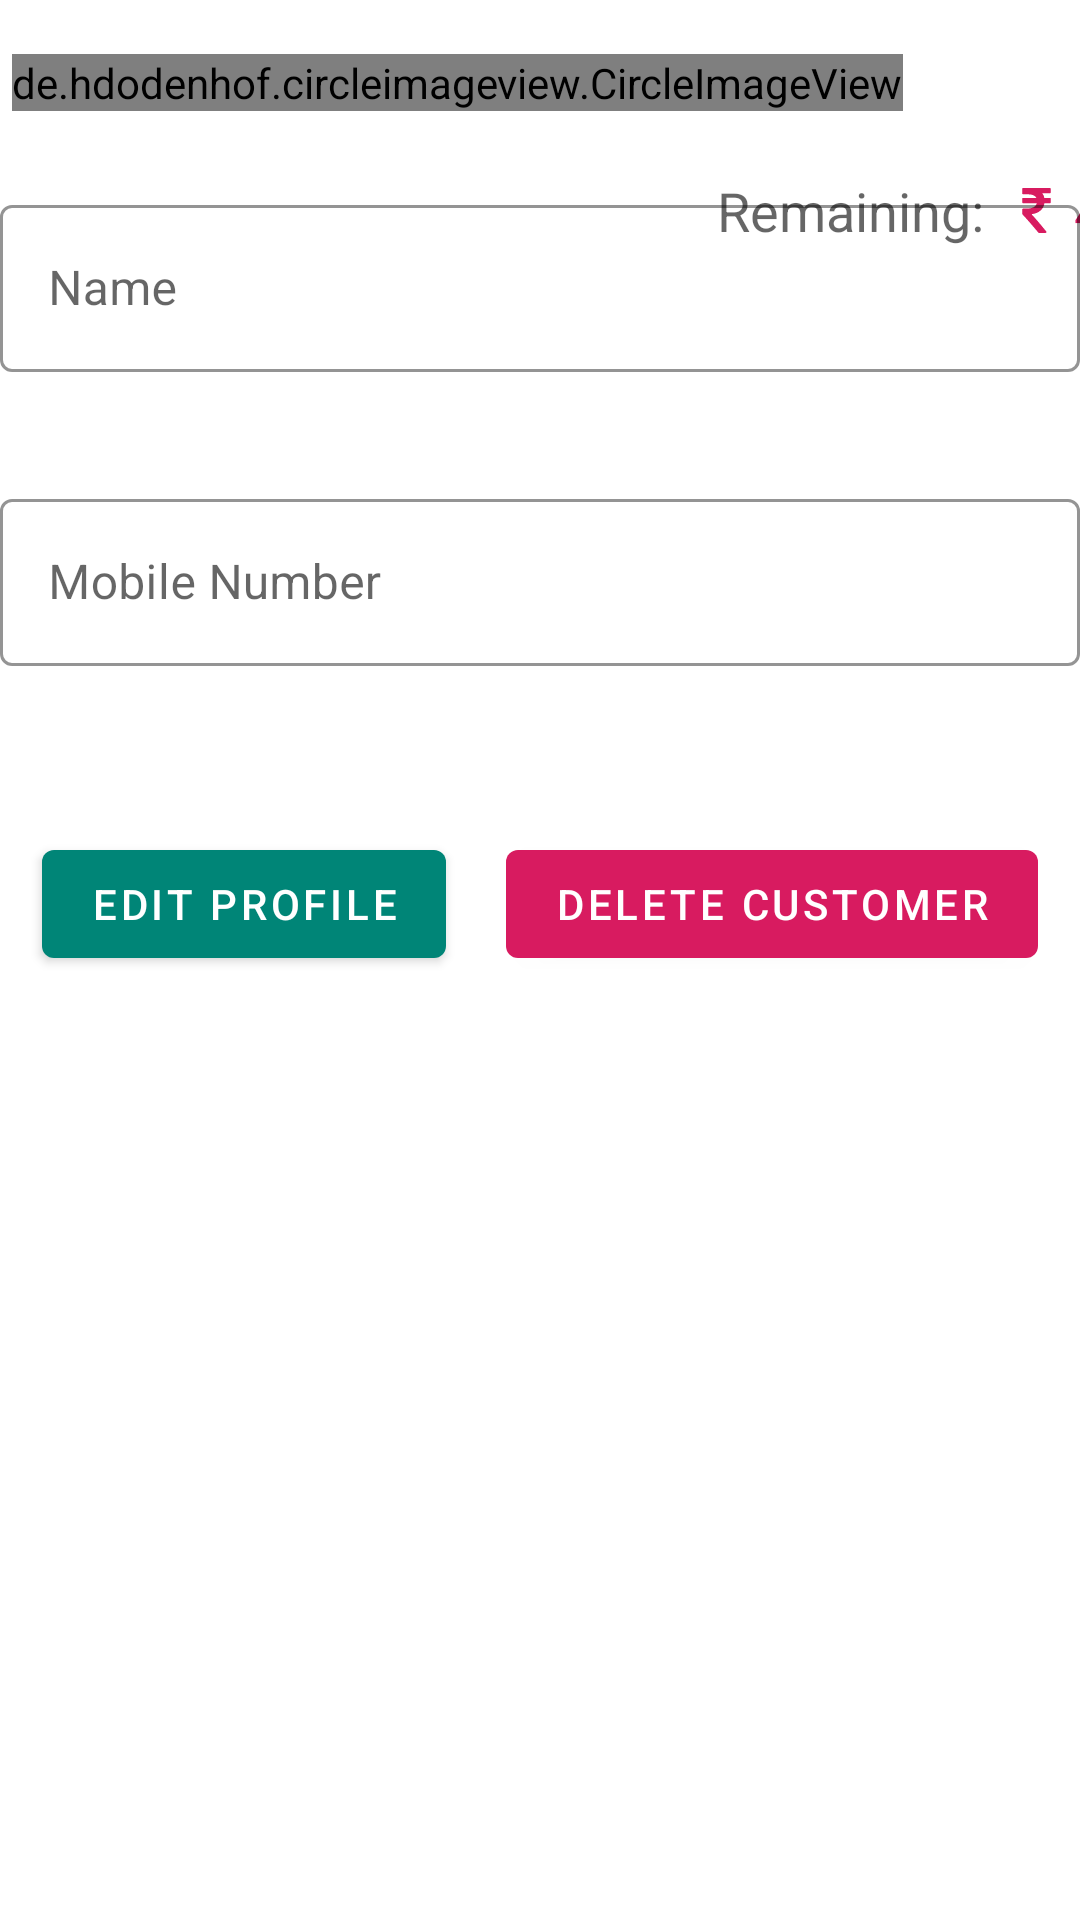

Icons on this 1080x1920 Android screen, each with the point to tap as (x=x, y=y):
rupee indian: (x=1036, y=210)
